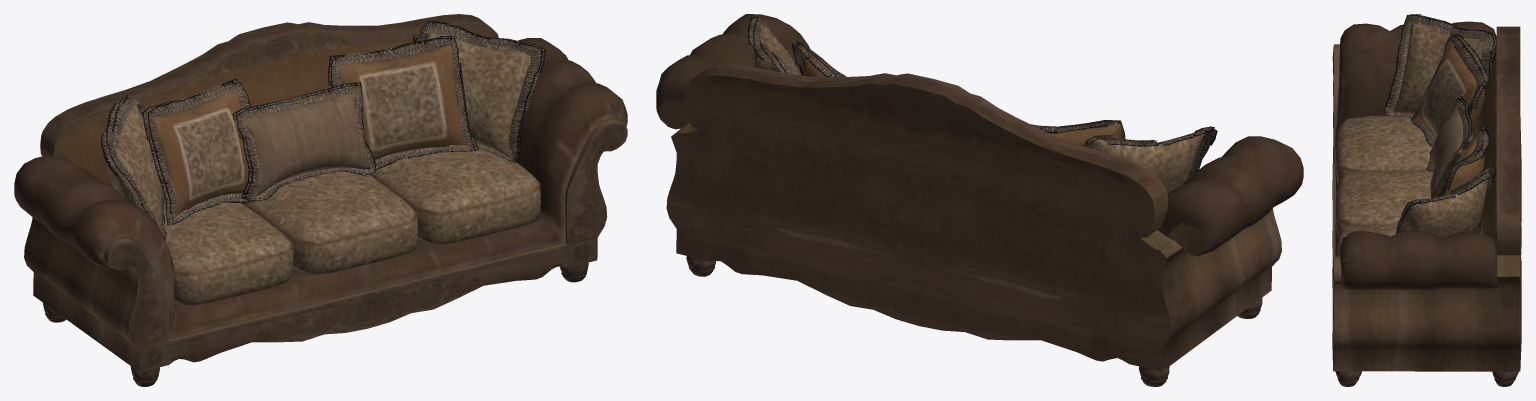
File: sofa_03.glb
3 views of the same model, side by side, from view 1: azimuth 30°, elevation 25°; view 2: azimuth 150°, elevation 25°; view 3: azimuth 270°, elevation 25° (orthographic). The views are drawn at different scales.
Parts seen in each view (by area): view 1: sofa_03; view 2: sofa_03; view 3: sofa_03.
Part boxes in pixels (x1=…): sofa_03: x1=14, y1=14, x2=627, y2=386; sofa_03: x1=656, y1=14, x2=1303, y2=386; sofa_03: x1=1332, y1=14, x2=1521, y2=386.
Bounding box in the file's own units: 2.73 × 1.12 × 0.925.
2 materials, 2 textured.
